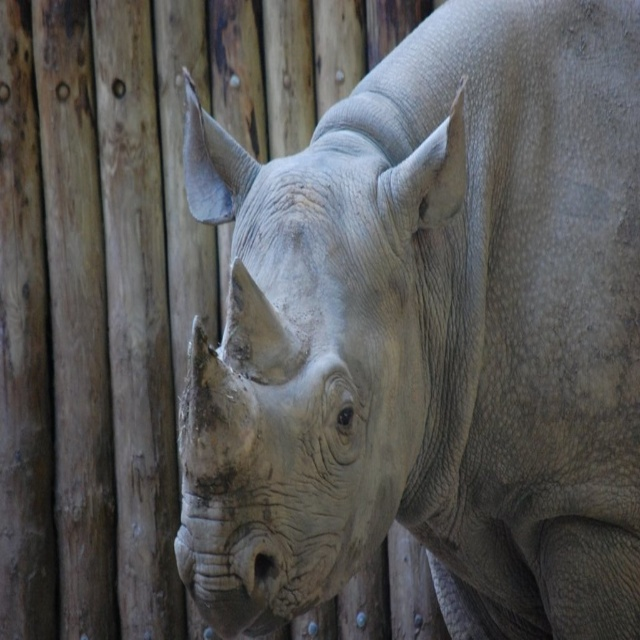Rhinoceros: (165, 0, 639, 639)
